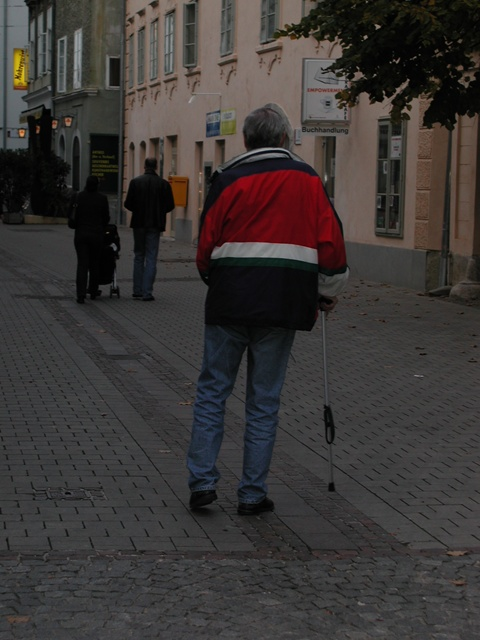person: (188, 102, 348, 522), (63, 172, 115, 304), (127, 155, 174, 300)
